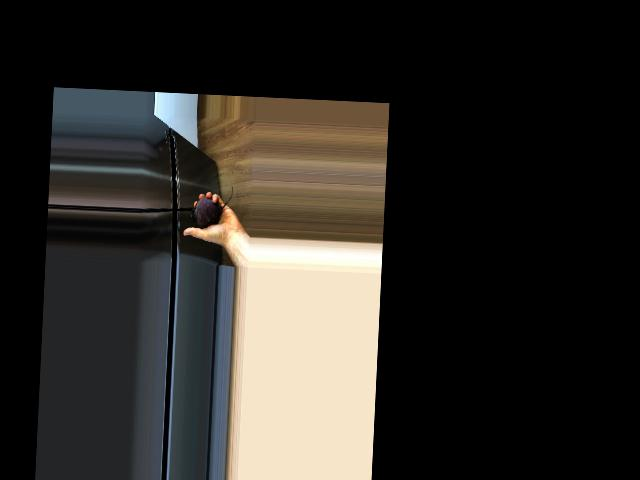beet: (190, 183, 233, 229)
